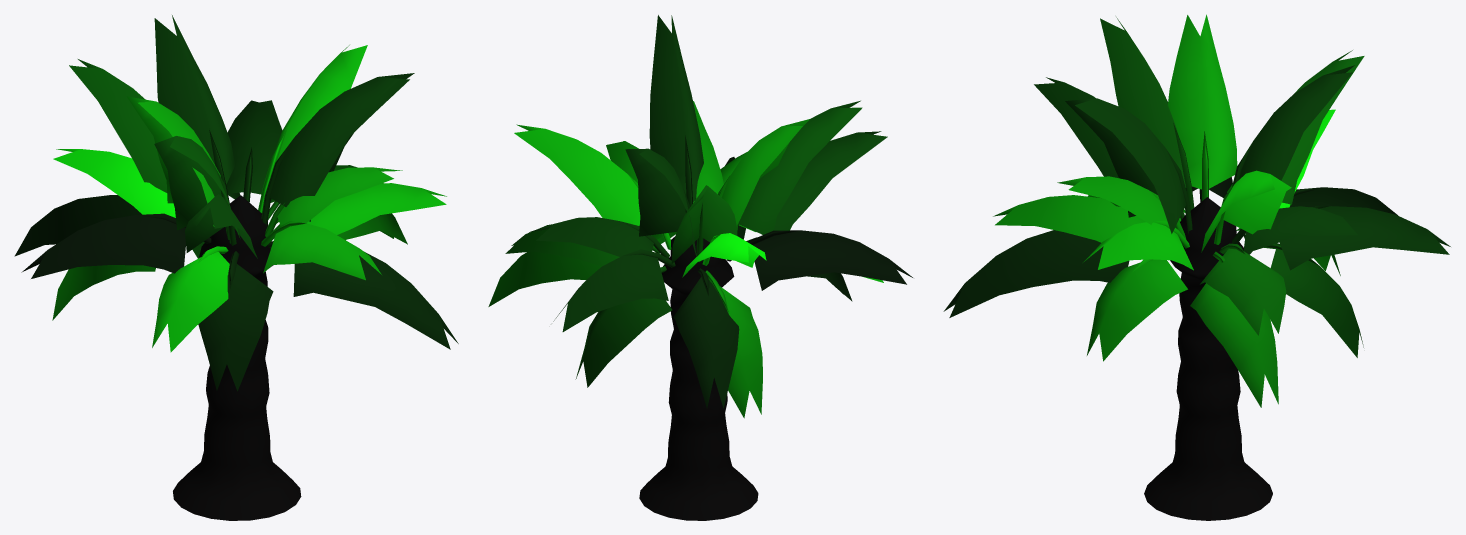
File: M_P10_Tree_7.fbx
3 renders of one model, left to right at view 1: azimuth 30°, elevation 25°; view 2: azimuth 150°, elevation 25°; view 3: azimuth 270°, elevation 25°, orthographic. The views are drawn at different scales.
Parts seen in each view (by area): view 1: Palm_1_7; view 2: Palm_1_7; view 3: Palm_1_7.
Boxes of the visible parts, x1,y1,x2,y2 form: Palm_1_7: [14, 15, 458, 520]; Palm_1_7: [488, 15, 912, 520]; Palm_1_7: [943, 14, 1450, 520].
Size of the model in its own units: 317 by 321 by 335.
